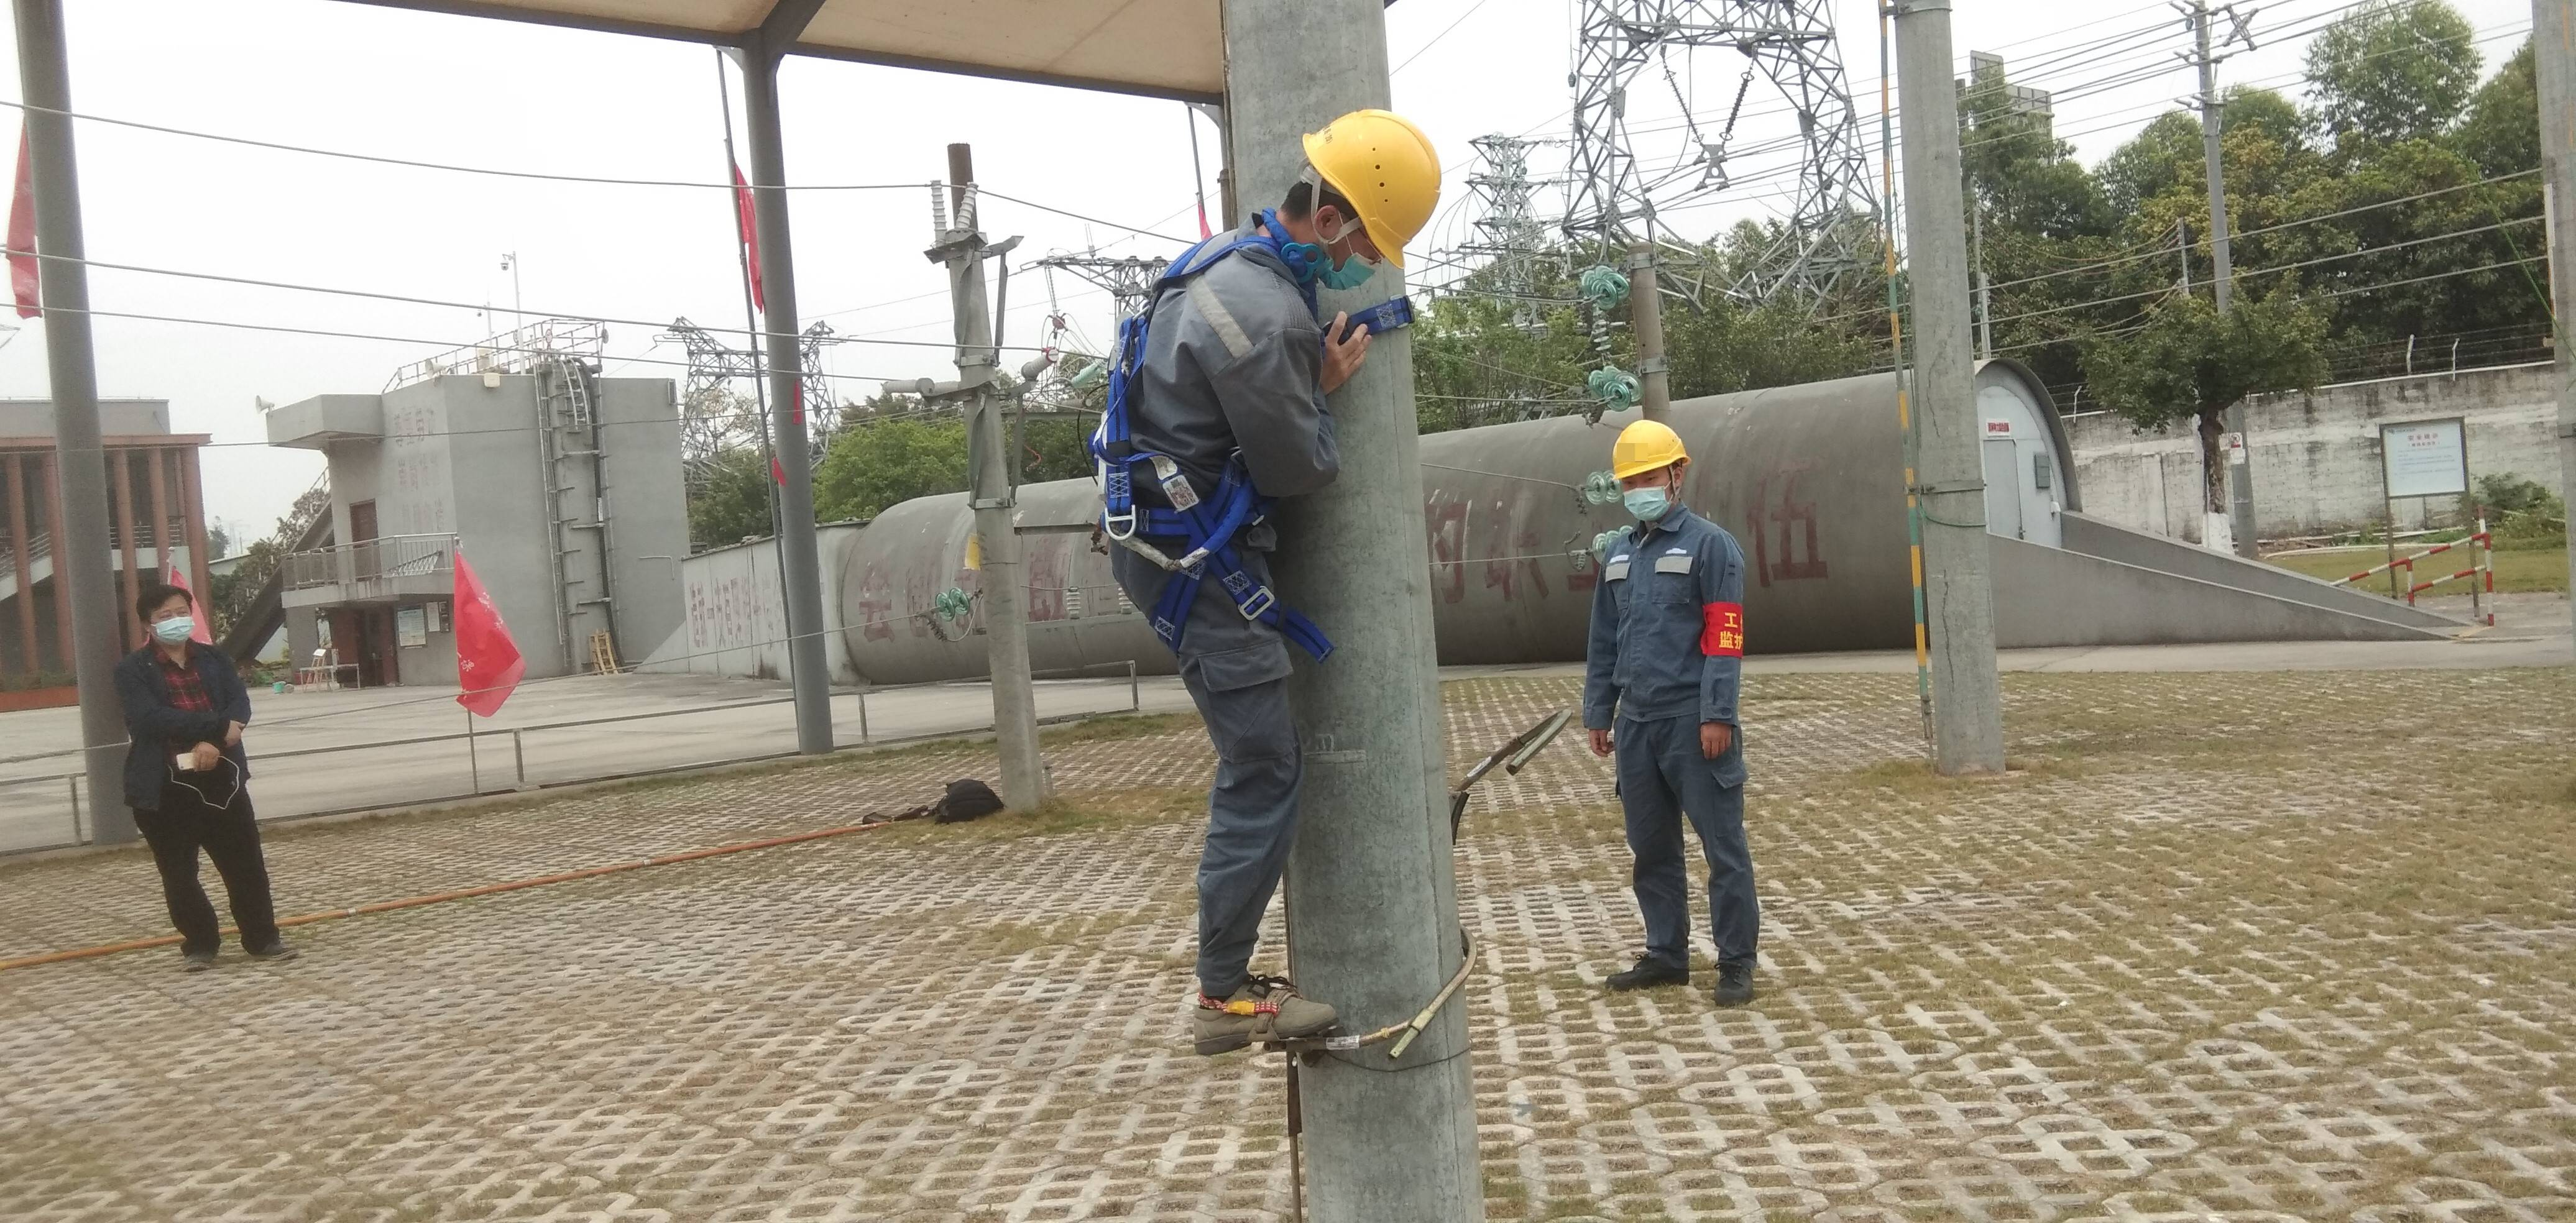downcloth: (151, 809, 273, 959)
downsuit: (1142, 548, 1309, 988), (1612, 737, 1763, 962)
upcloth: (126, 653, 260, 798)
upsuit: (1124, 220, 1342, 522), (1582, 506, 1746, 719)
